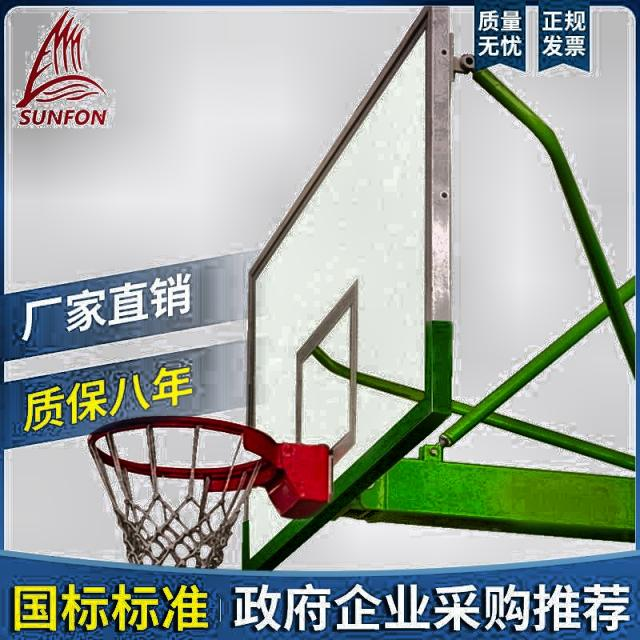rim: (87, 417, 272, 569)
